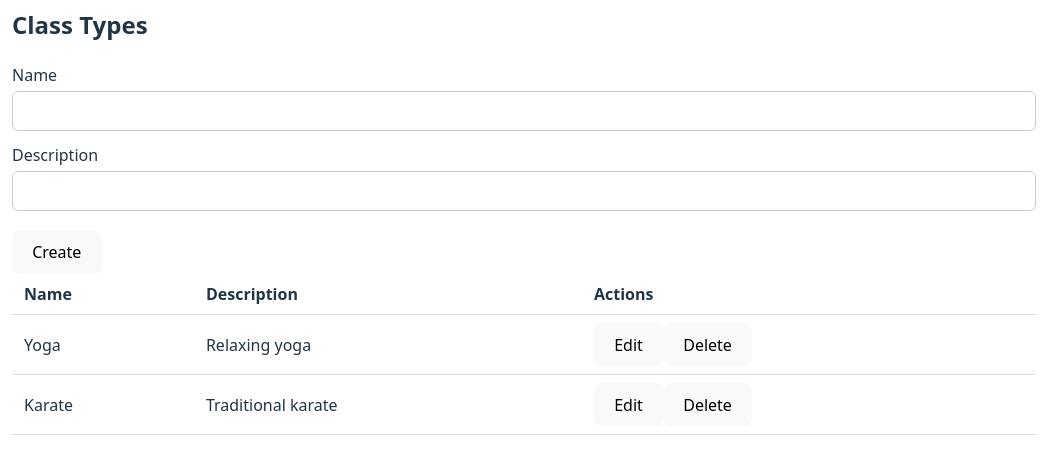
ClassTypes › cancels editing and resets form
Expected: the text "Yoga" is shown, [12,314,194,375]
Click the button "Edit" in the row of "Relaxing yoga". click: (628, 345)
box: [594,323,663,366]
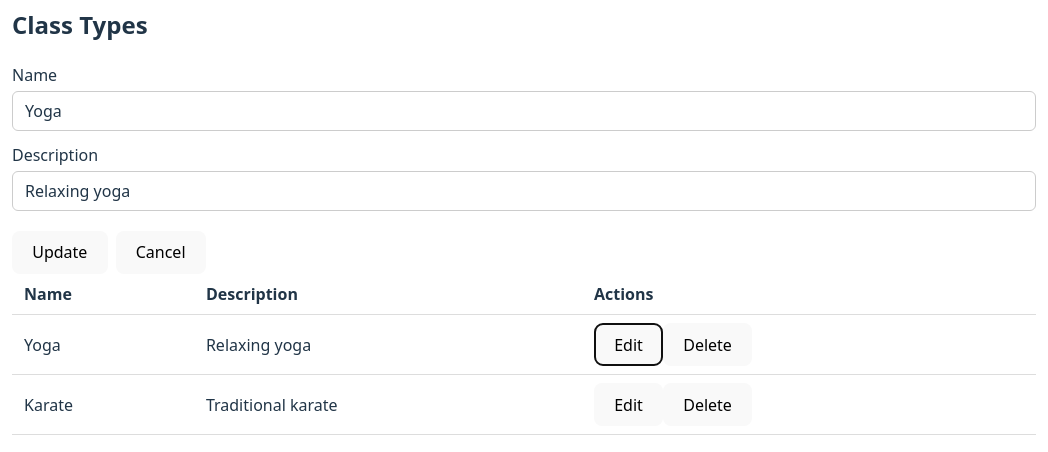
Expected: the button "Update" is shown, [12,231,108,274]
Click the button "Cancel". click: (161, 252)
box: [116,231,206,274]
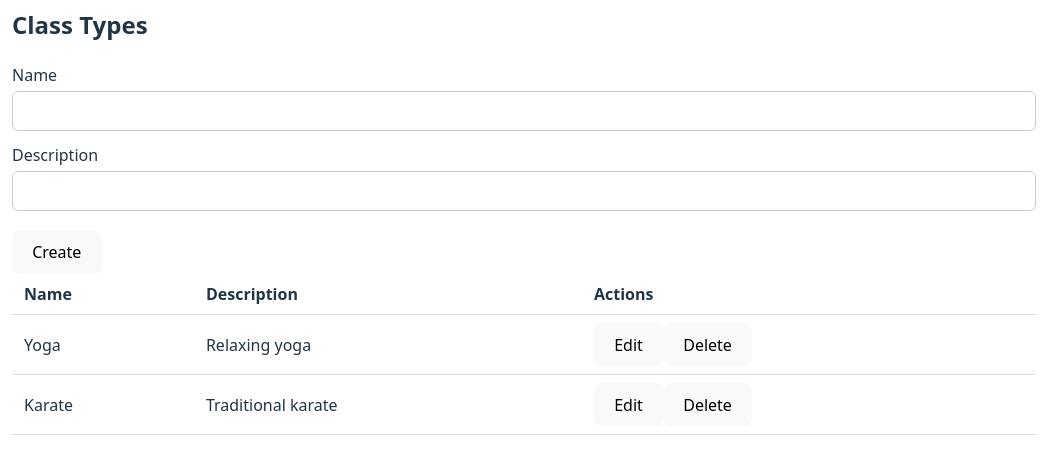
Expected: the button "Create" is shown, [12,231,102,274]
Expected: the field labelled "Name" is empty, [12,91,1036,131]
Expected: the field labelled "Description" is empty, [12,171,1036,211]
